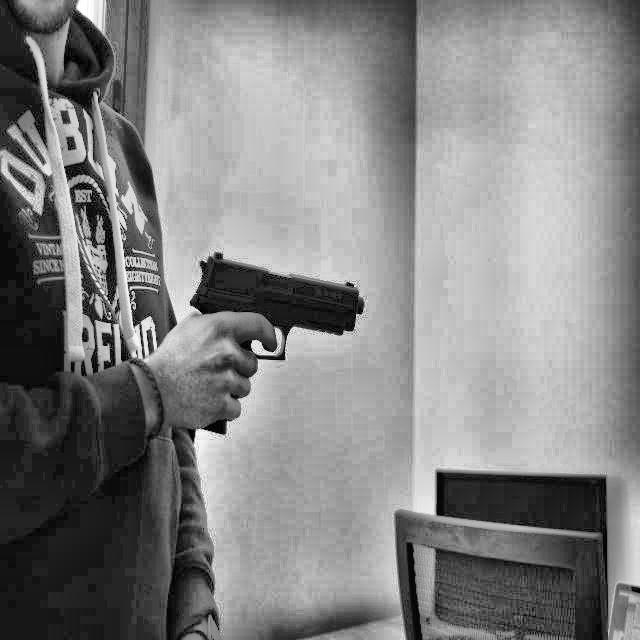pistol: (173, 241, 385, 445)
